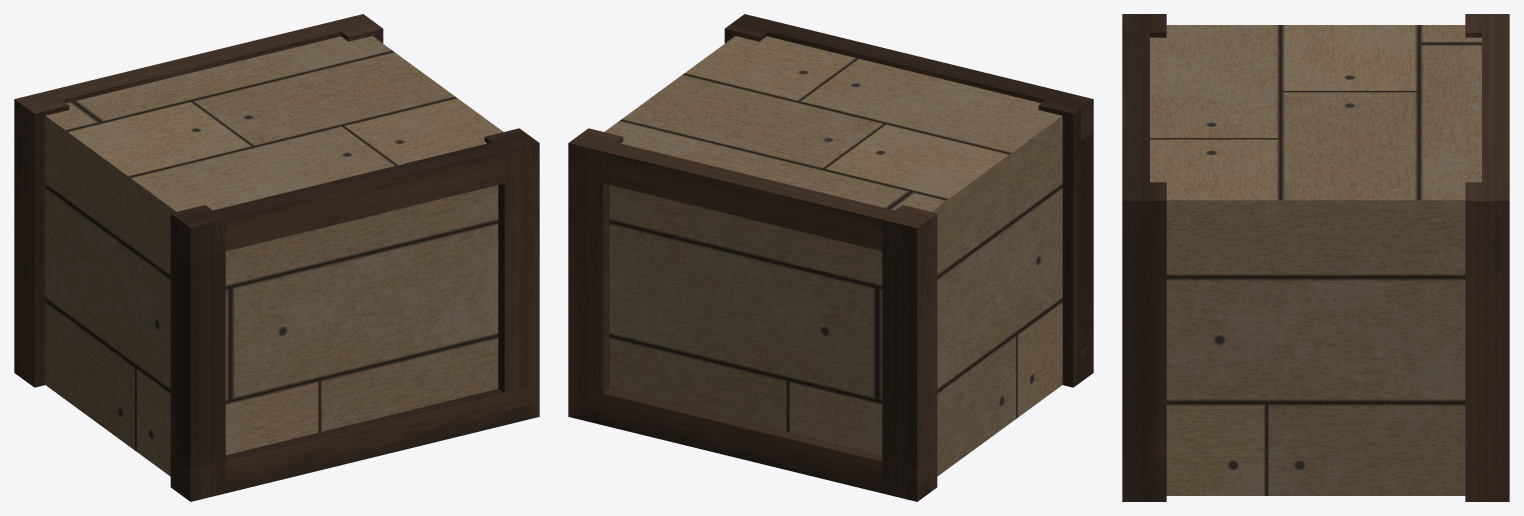
The model's file is HO_Prop_Crate.fbx.
The picture shows the model from 3 angles, left to right: view 1: azimuth 30°, elevation 25°; view 2: azimuth 150°, elevation 25°; view 3: azimuth 270°, elevation 25°; orthographic projection. The views are drawn at different scales.
Parts seen in each view (by area): view 1: HO_Prop_Crate__Wood_Planks, HO_Prop_Crate__Timber_Dark; view 2: HO_Prop_Crate__Wood_Planks, HO_Prop_Crate__Timber_Dark; view 3: HO_Prop_Crate__Wood_Planks, HO_Prop_Crate__Timber_Dark.
Part boxes in pixels (<box>): HO_Prop_Crate__Wood_Planks: <box>45,36,503,476</box>; HO_Prop_Crate__Timber_Dark: <box>14,14,539,501</box>; HO_Prop_Crate__Wood_Planks: <box>604,36,1062,476</box>; HO_Prop_Crate__Timber_Dark: <box>568,14,1093,501</box>; HO_Prop_Crate__Wood_Planks: <box>1150,25,1481,495</box>; HO_Prop_Crate__Timber_Dark: <box>1122,14,1509,501</box>.
Size of the model in its own units: 1.6 by 1.2 by 1.4.
